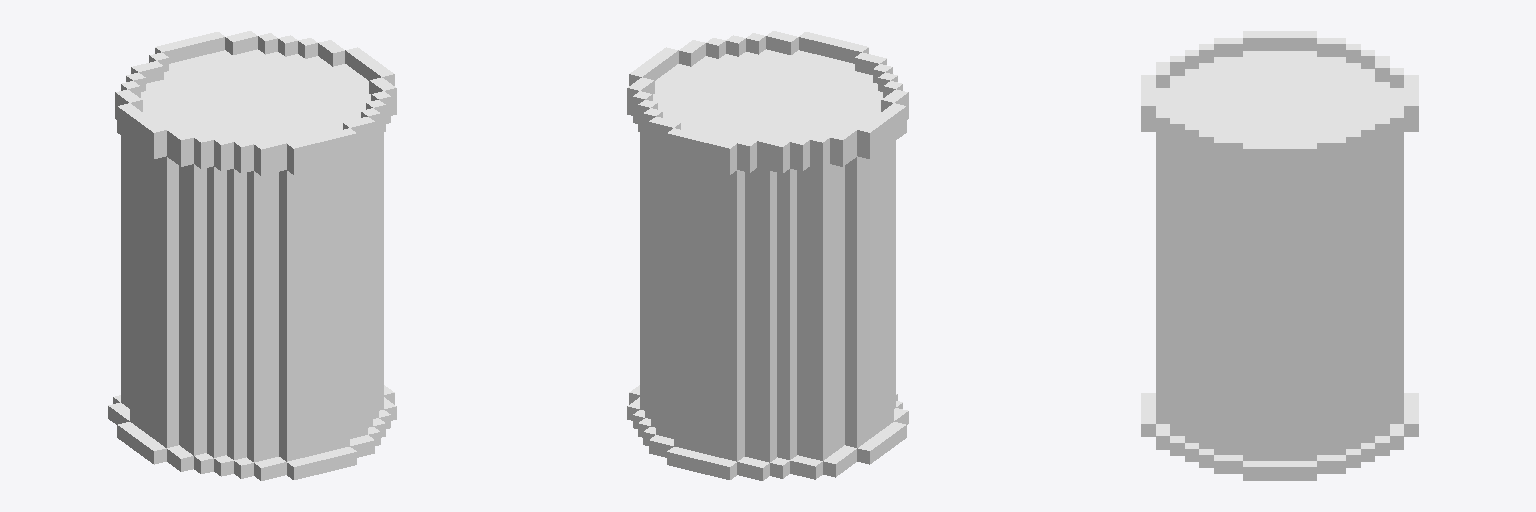
Rendered from Tincan-0.obj.
3 renders of one model, left to right at view 1: azimuth 30°, elevation 25°; view 2: azimuth 150°, elevation 25°; view 3: azimuth 270°, elevation 25°, orthographic.
Visible parts, largest first — view 1: object 1; view 2: object 1; view 3: object 1.
Part boxes in pixels (bbox=[...]): object 1: bbox=[108, 31, 396, 480]; object 1: bbox=[627, 31, 908, 480]; object 1: bbox=[1141, 31, 1418, 480].
Bounding box in the file's own units: 1.9 × 2.5 × 1.9.